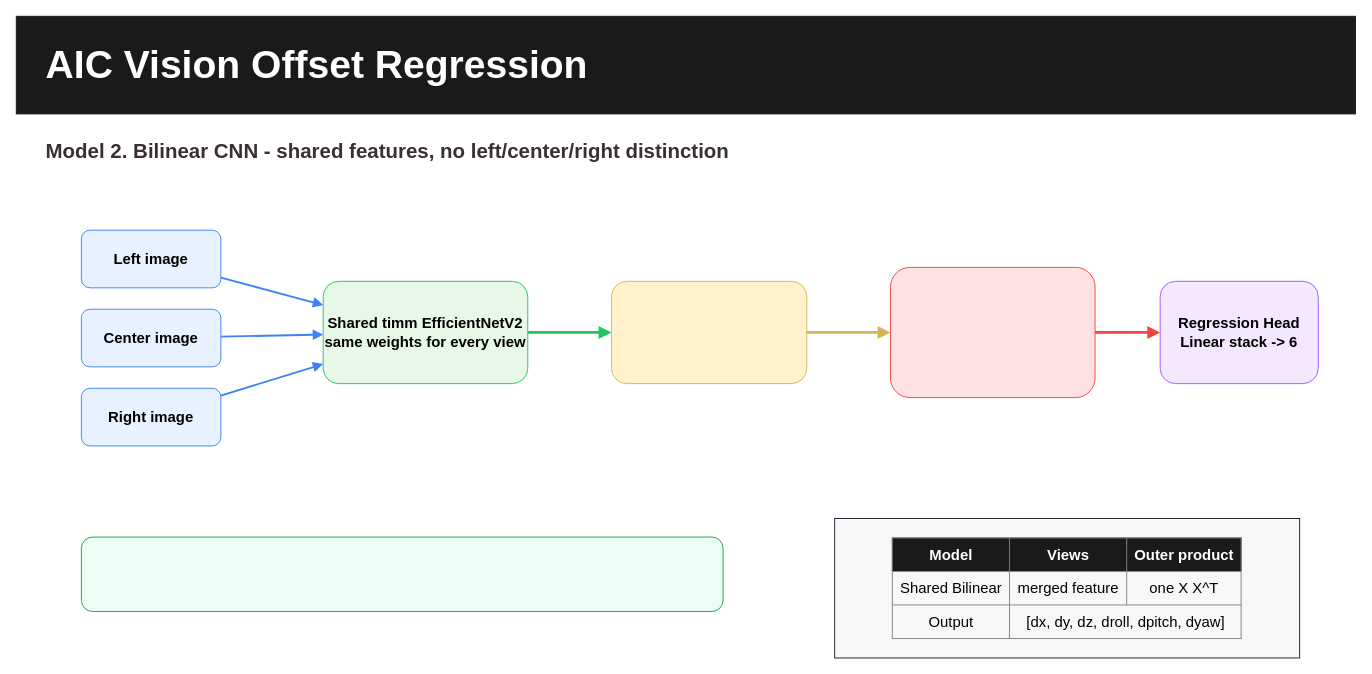
The diagram is 1372 pixels wide and 674 high, and some of its shapes have lost their labels. The shapes that lost their labels are listed below. From the top down, each one's centre as x and y in pixels, then its label:
(709,332): 1x1 Projection + Mean map left/center/right not separated
(992,332): Bilinear outer product X X^T / HW sqrt + L2 normalize
(401,573): 의도: Bilinear pooling 효과만 검증하고, left/center/right view identity는 일부러 제거
